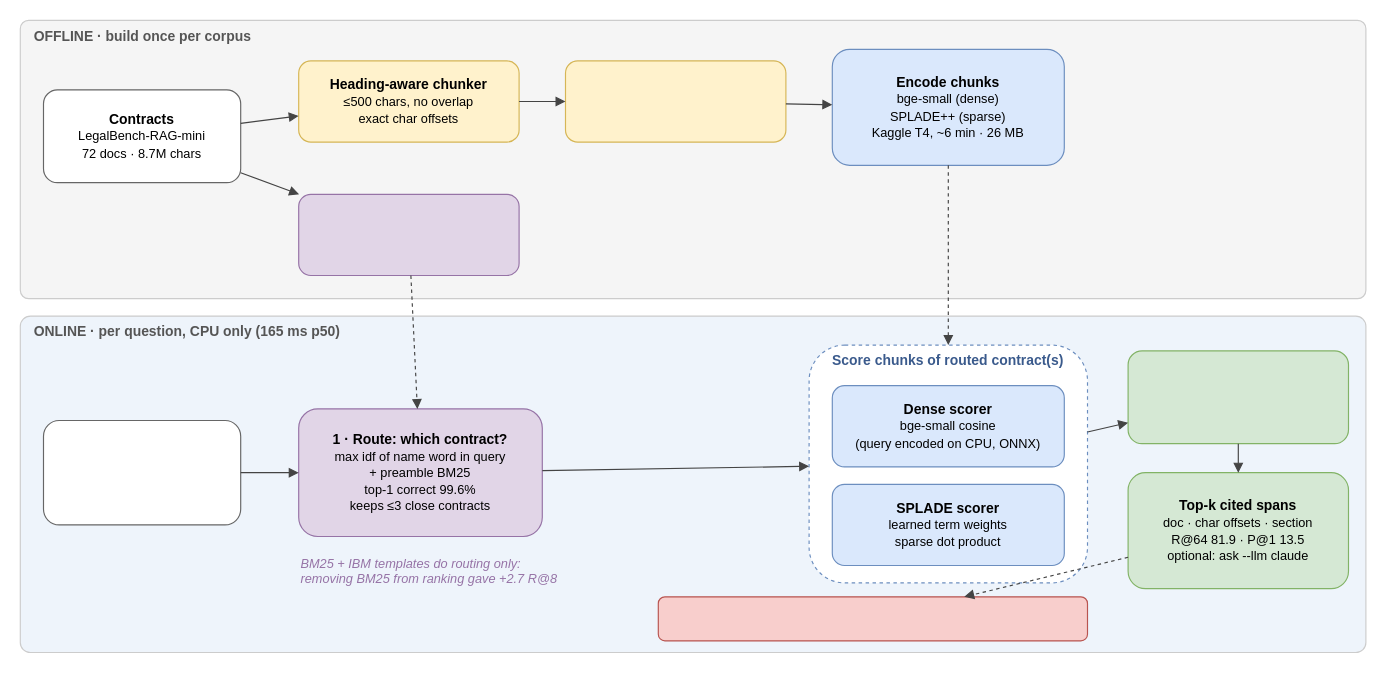
This 1386x673 diagram has some shape labels left out. The centre of each missing label's shape, as x and y in pixels:
2 · Rank: RRF fusion Σ 1 / (60 + rank): point (1237, 397)
Context prefix "title | section" + chunk text: point (675, 101)
Evaluation char-level P@k / R@k vs gold spans · dev/test split by document: point (872, 618)
Question "Consider the merger between X and Y; where is the No-Shop clause?": point (141, 472)
Router index BM25 over contract name + first 2k chars: point (408, 234)
